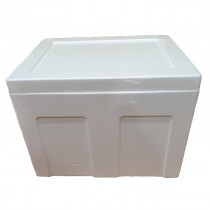Foam Box: (3, 32, 205, 183)
